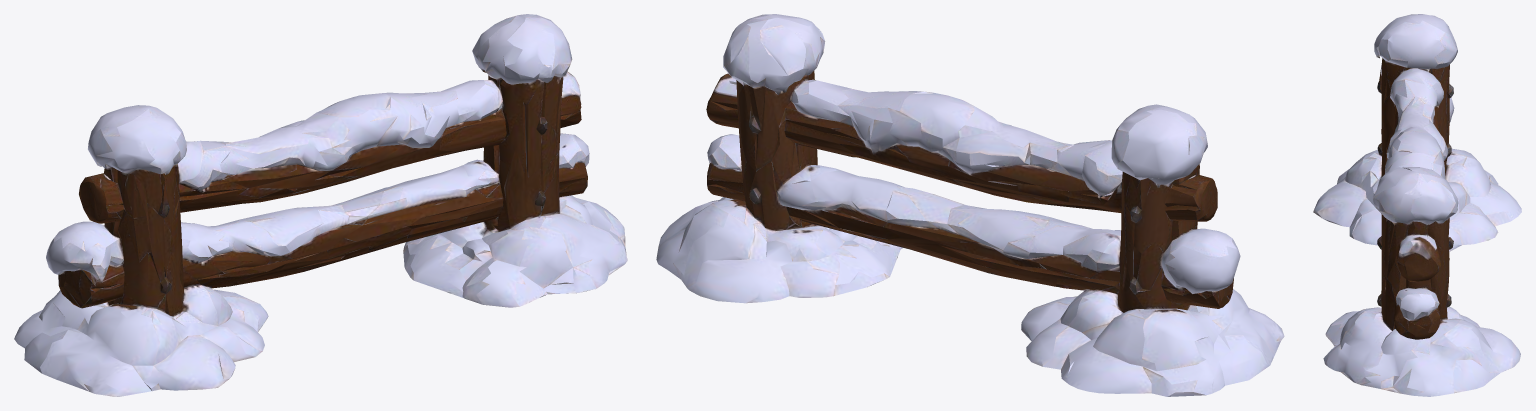
Rendered from fence.glb.
3 views of the same model, side by side, from view 1: azimuth 30°, elevation 25°; view 2: azimuth 150°, elevation 25°; view 3: azimuth 270°, elevation 25° (orthographic). The views are drawn at different scales.
Visible parts, largest first — view 1: output_unwrapped; view 2: output_unwrapped; view 3: output_unwrapped.
Part boxes in pixels (x1=…): output_unwrapped: x1=14, y1=14, x2=627, y2=396; output_unwrapped: x1=656, y1=14, x2=1284, y2=396; output_unwrapped: x1=1313, y1=14, x2=1521, y2=396.
Bounding box in the file's own units: 1.89 × 0.7188 × 0.7234.
Materials: 1 (1 with a texture image).
